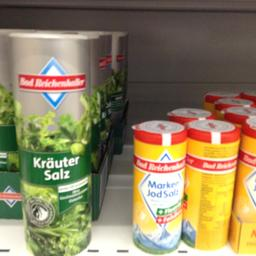spices: (10, 28, 90, 254), (132, 119, 186, 254), (185, 118, 239, 248)
